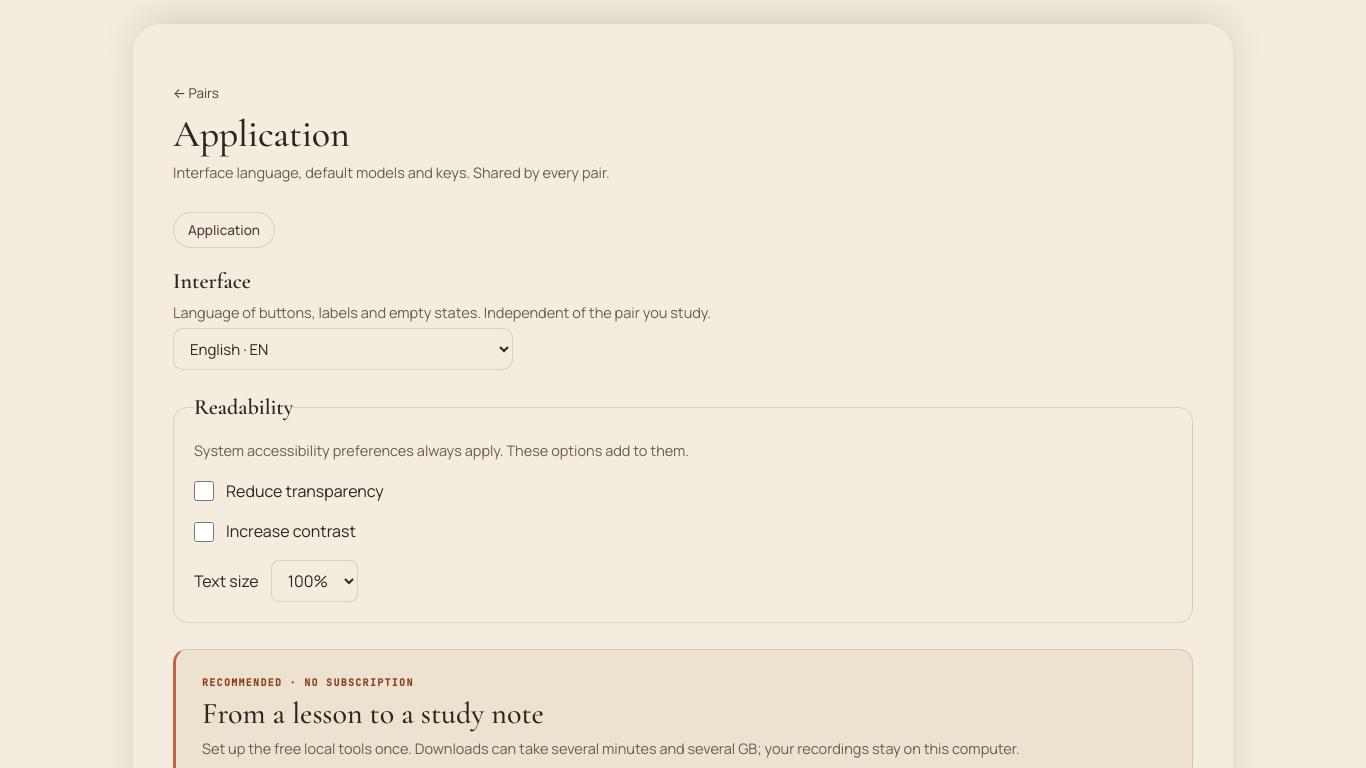
Scenario: AppSettingsComponent › switches the chrome locale from the application settings page
Select "Italiano · IT" in the dropdown named "Interface" at (343, 349), box [173,328,513,370]
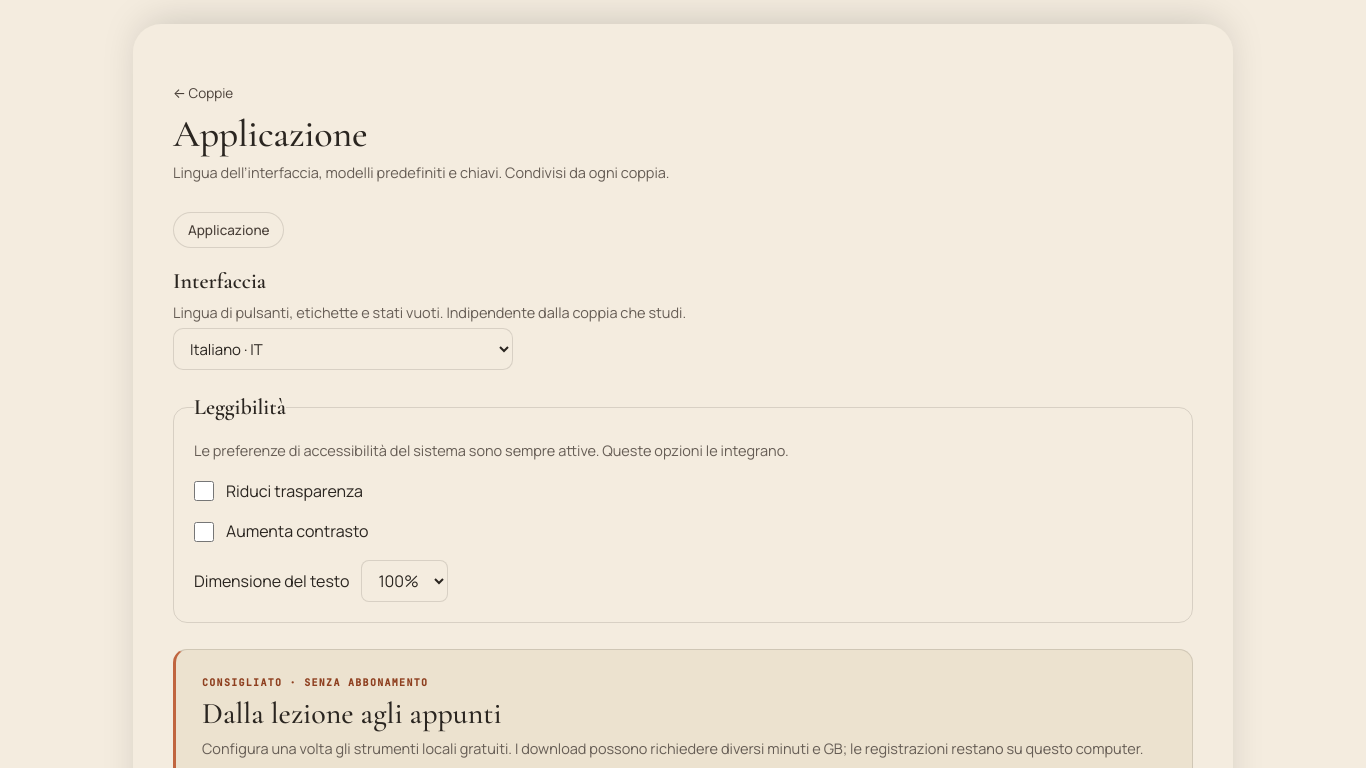
Expected: the text "Applicazione" is shown, [173,111,368,157]
Expected: the text "interfaccia" is shown, [173,163,670,182]
